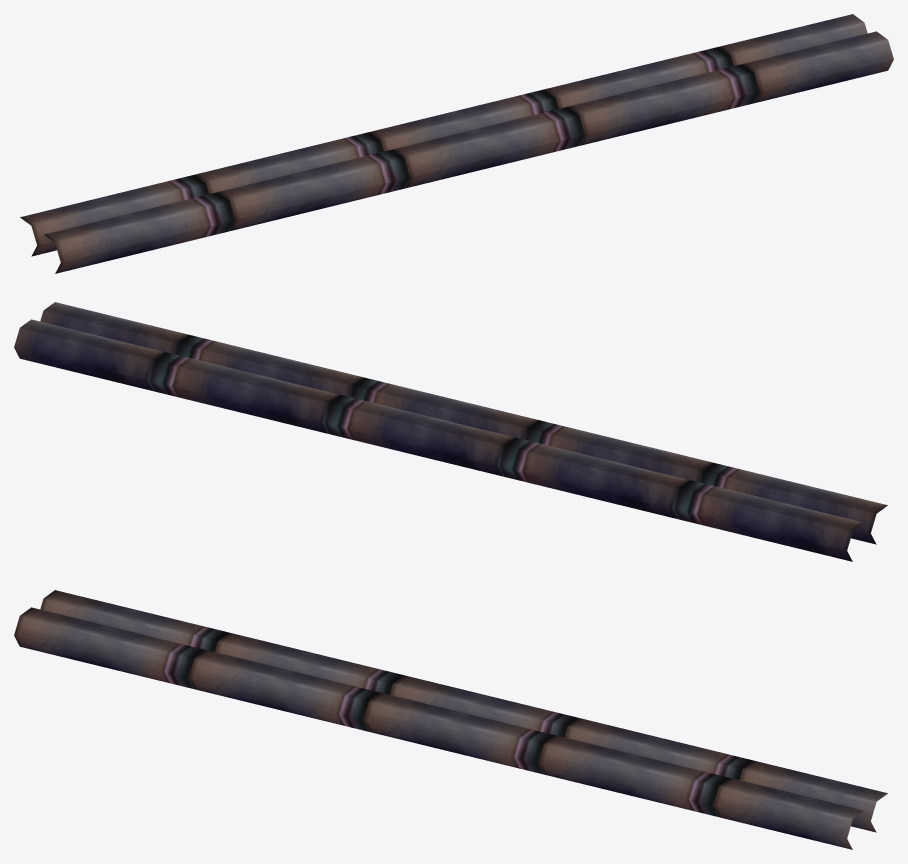
The picture shows the model from 3 angles, top to bottom: view 1: azimuth 30°, elevation 25°; view 2: azimuth 150°, elevation 25°; view 3: azimuth 330°, elevation 25°; orthographic projection.
Parts seen in each view (by area): view 1: Cylinder04; view 2: Cylinder04; view 3: Cylinder04.
Boxes of the visible parts, <box> form: Cylinder04: <box>20,14,893,273</box>; Cylinder04: <box>14,302,887,561</box>; Cylinder04: <box>14,590,887,849</box>.
Bounding box in the file's own units: 3647 × 129 × 355.
Materials: 1 (1 with a texture image).
